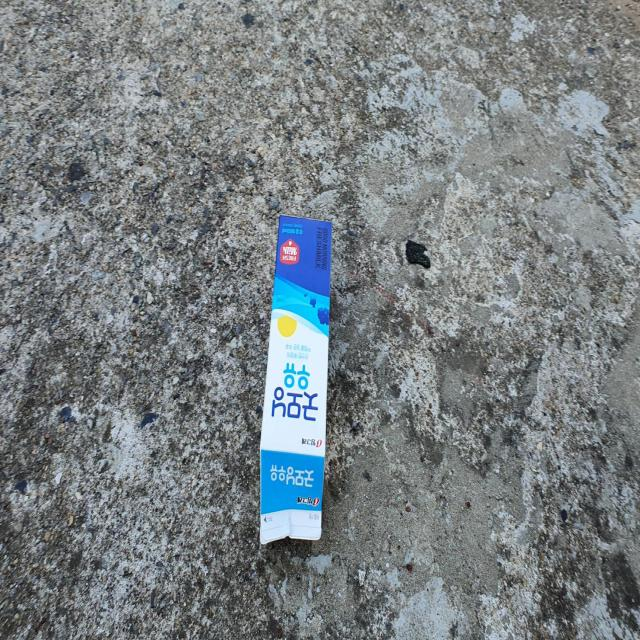paperpack: (260, 214, 332, 544)
